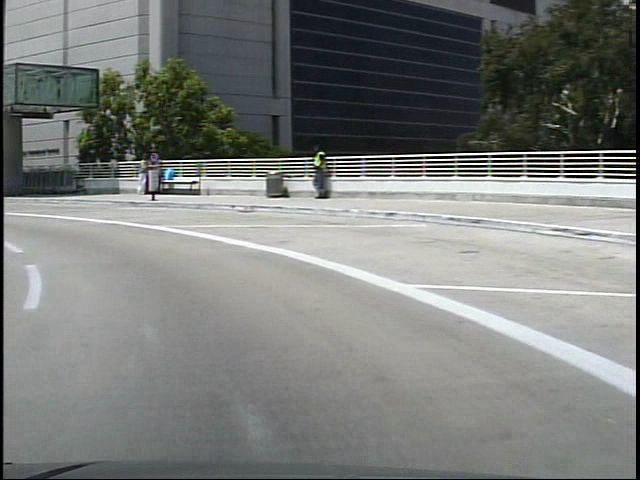person: (302, 141, 324, 201)
